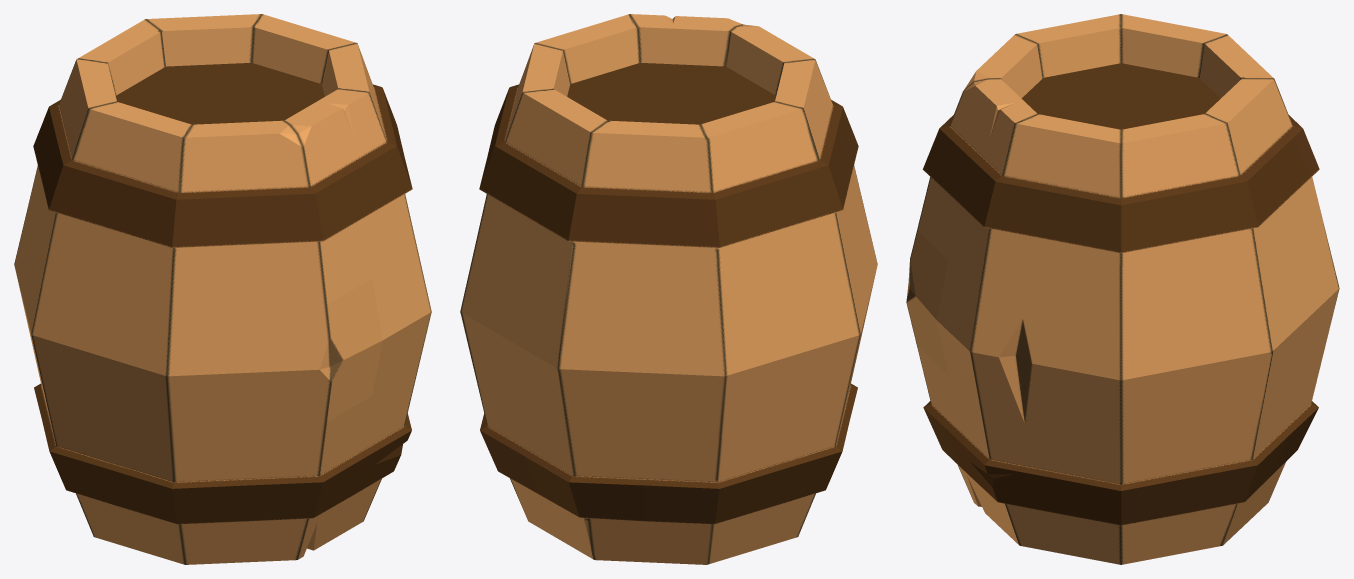
File: Beczka.fbx
3 renders of one model, left to right at view 1: azimuth 30°, elevation 25°; view 2: azimuth 150°, elevation 25°; view 3: azimuth 270°, elevation 25°, orthographic.
Visible parts, largest first — view 1: Circle; view 2: Circle; view 3: Circle.
Part boxes in pixels (box(x1,y1,x2,y2)): Circle: box(14, 14, 431, 564); Circle: box(460, 14, 877, 564); Circle: box(906, 14, 1339, 564).
Size of the model in its own units: 333 by 357 by 330.
